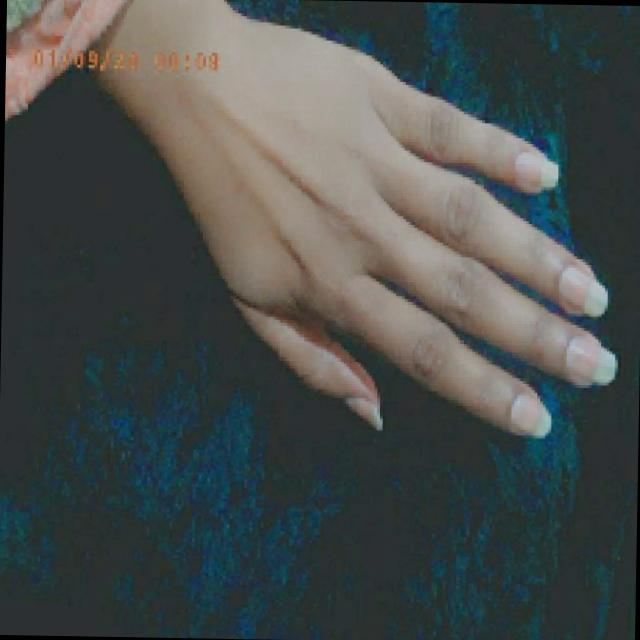Nail: (557, 266, 606, 316), (565, 337, 615, 385), (509, 392, 550, 438), (515, 152, 558, 187), (343, 397, 382, 430)
